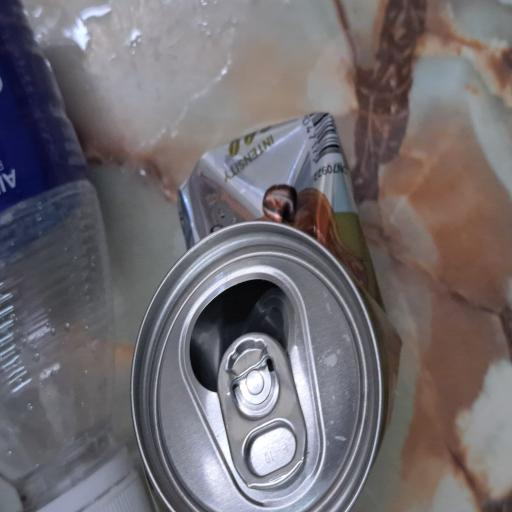can: (0, 172, 303, 512)
plastic bottle: (17, 0, 384, 159)
plastic bottle cap: (0, 55, 34, 207)
pop tab: (16, 291, 136, 413)
